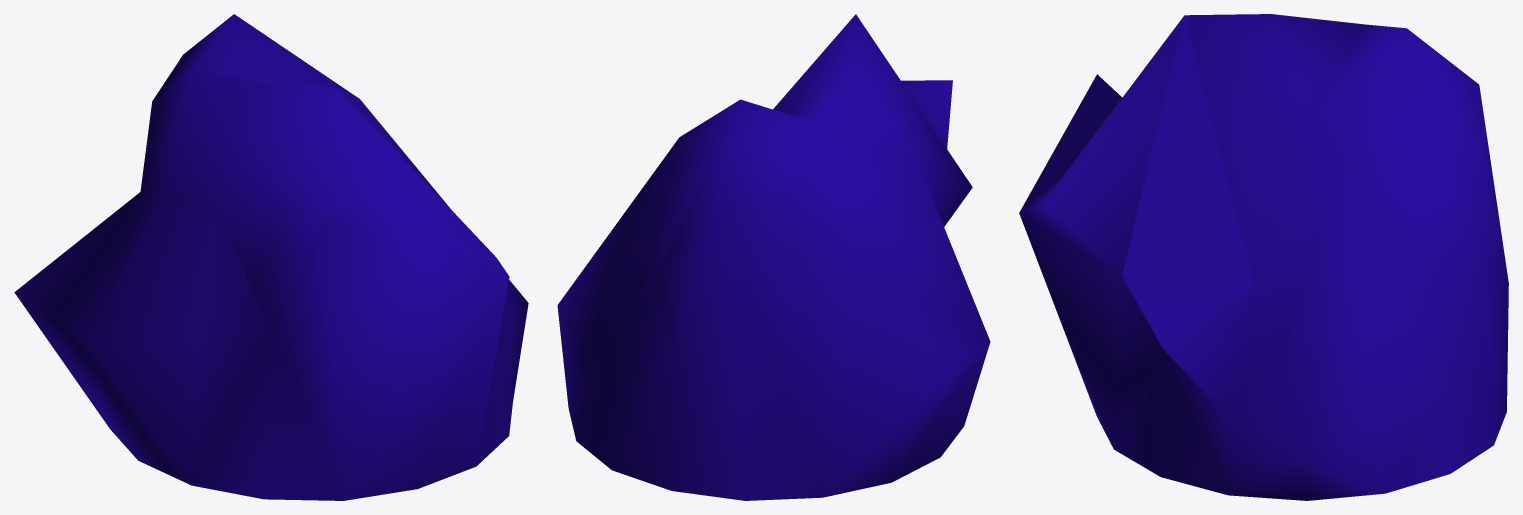
Rendered from CG_Model_TownExt_Rock3_Mar24_ChrisMcknight.FBX.
3 renders of one model, left to right at view 1: azimuth 30°, elevation 25°; view 2: azimuth 150°, elevation 25°; view 3: azimuth 270°, elevation 25°, orthographic. The views are drawn at different scales.
Parts seen in each view (by area): view 1: Cylinder031; view 2: Cylinder031; view 3: Cylinder031.
Boxes of the visible parts, <box> form: Cylinder031: <box>14,14,528,500</box>; Cylinder031: <box>557,14,990,500</box>; Cylinder031: <box>1019,14,1508,500</box>.
Size of the model in its own units: 32.36 by 25.96 by 30.12.
